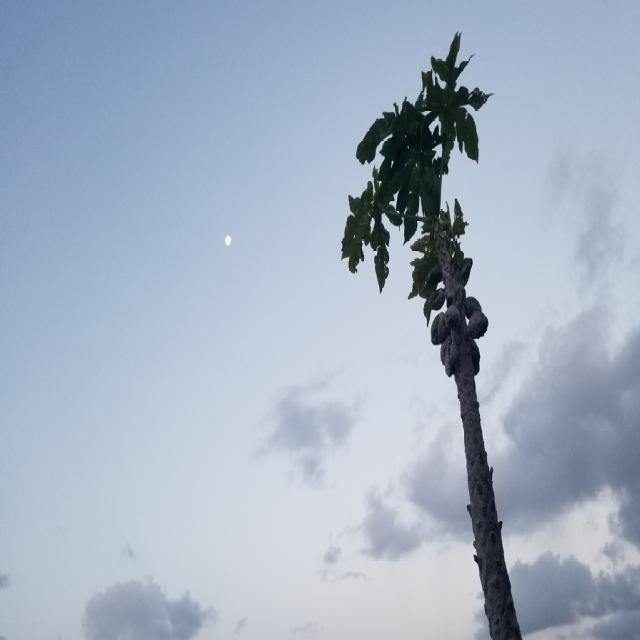Papaya-Tree: (322, 37, 557, 640)
